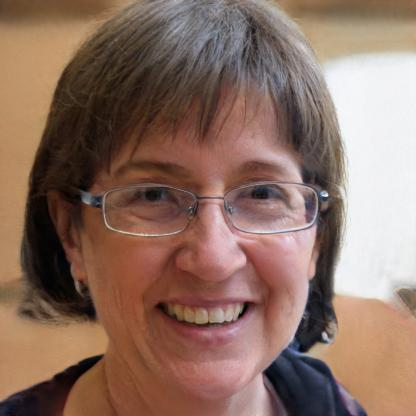glasses: (85, 184, 325, 240)
